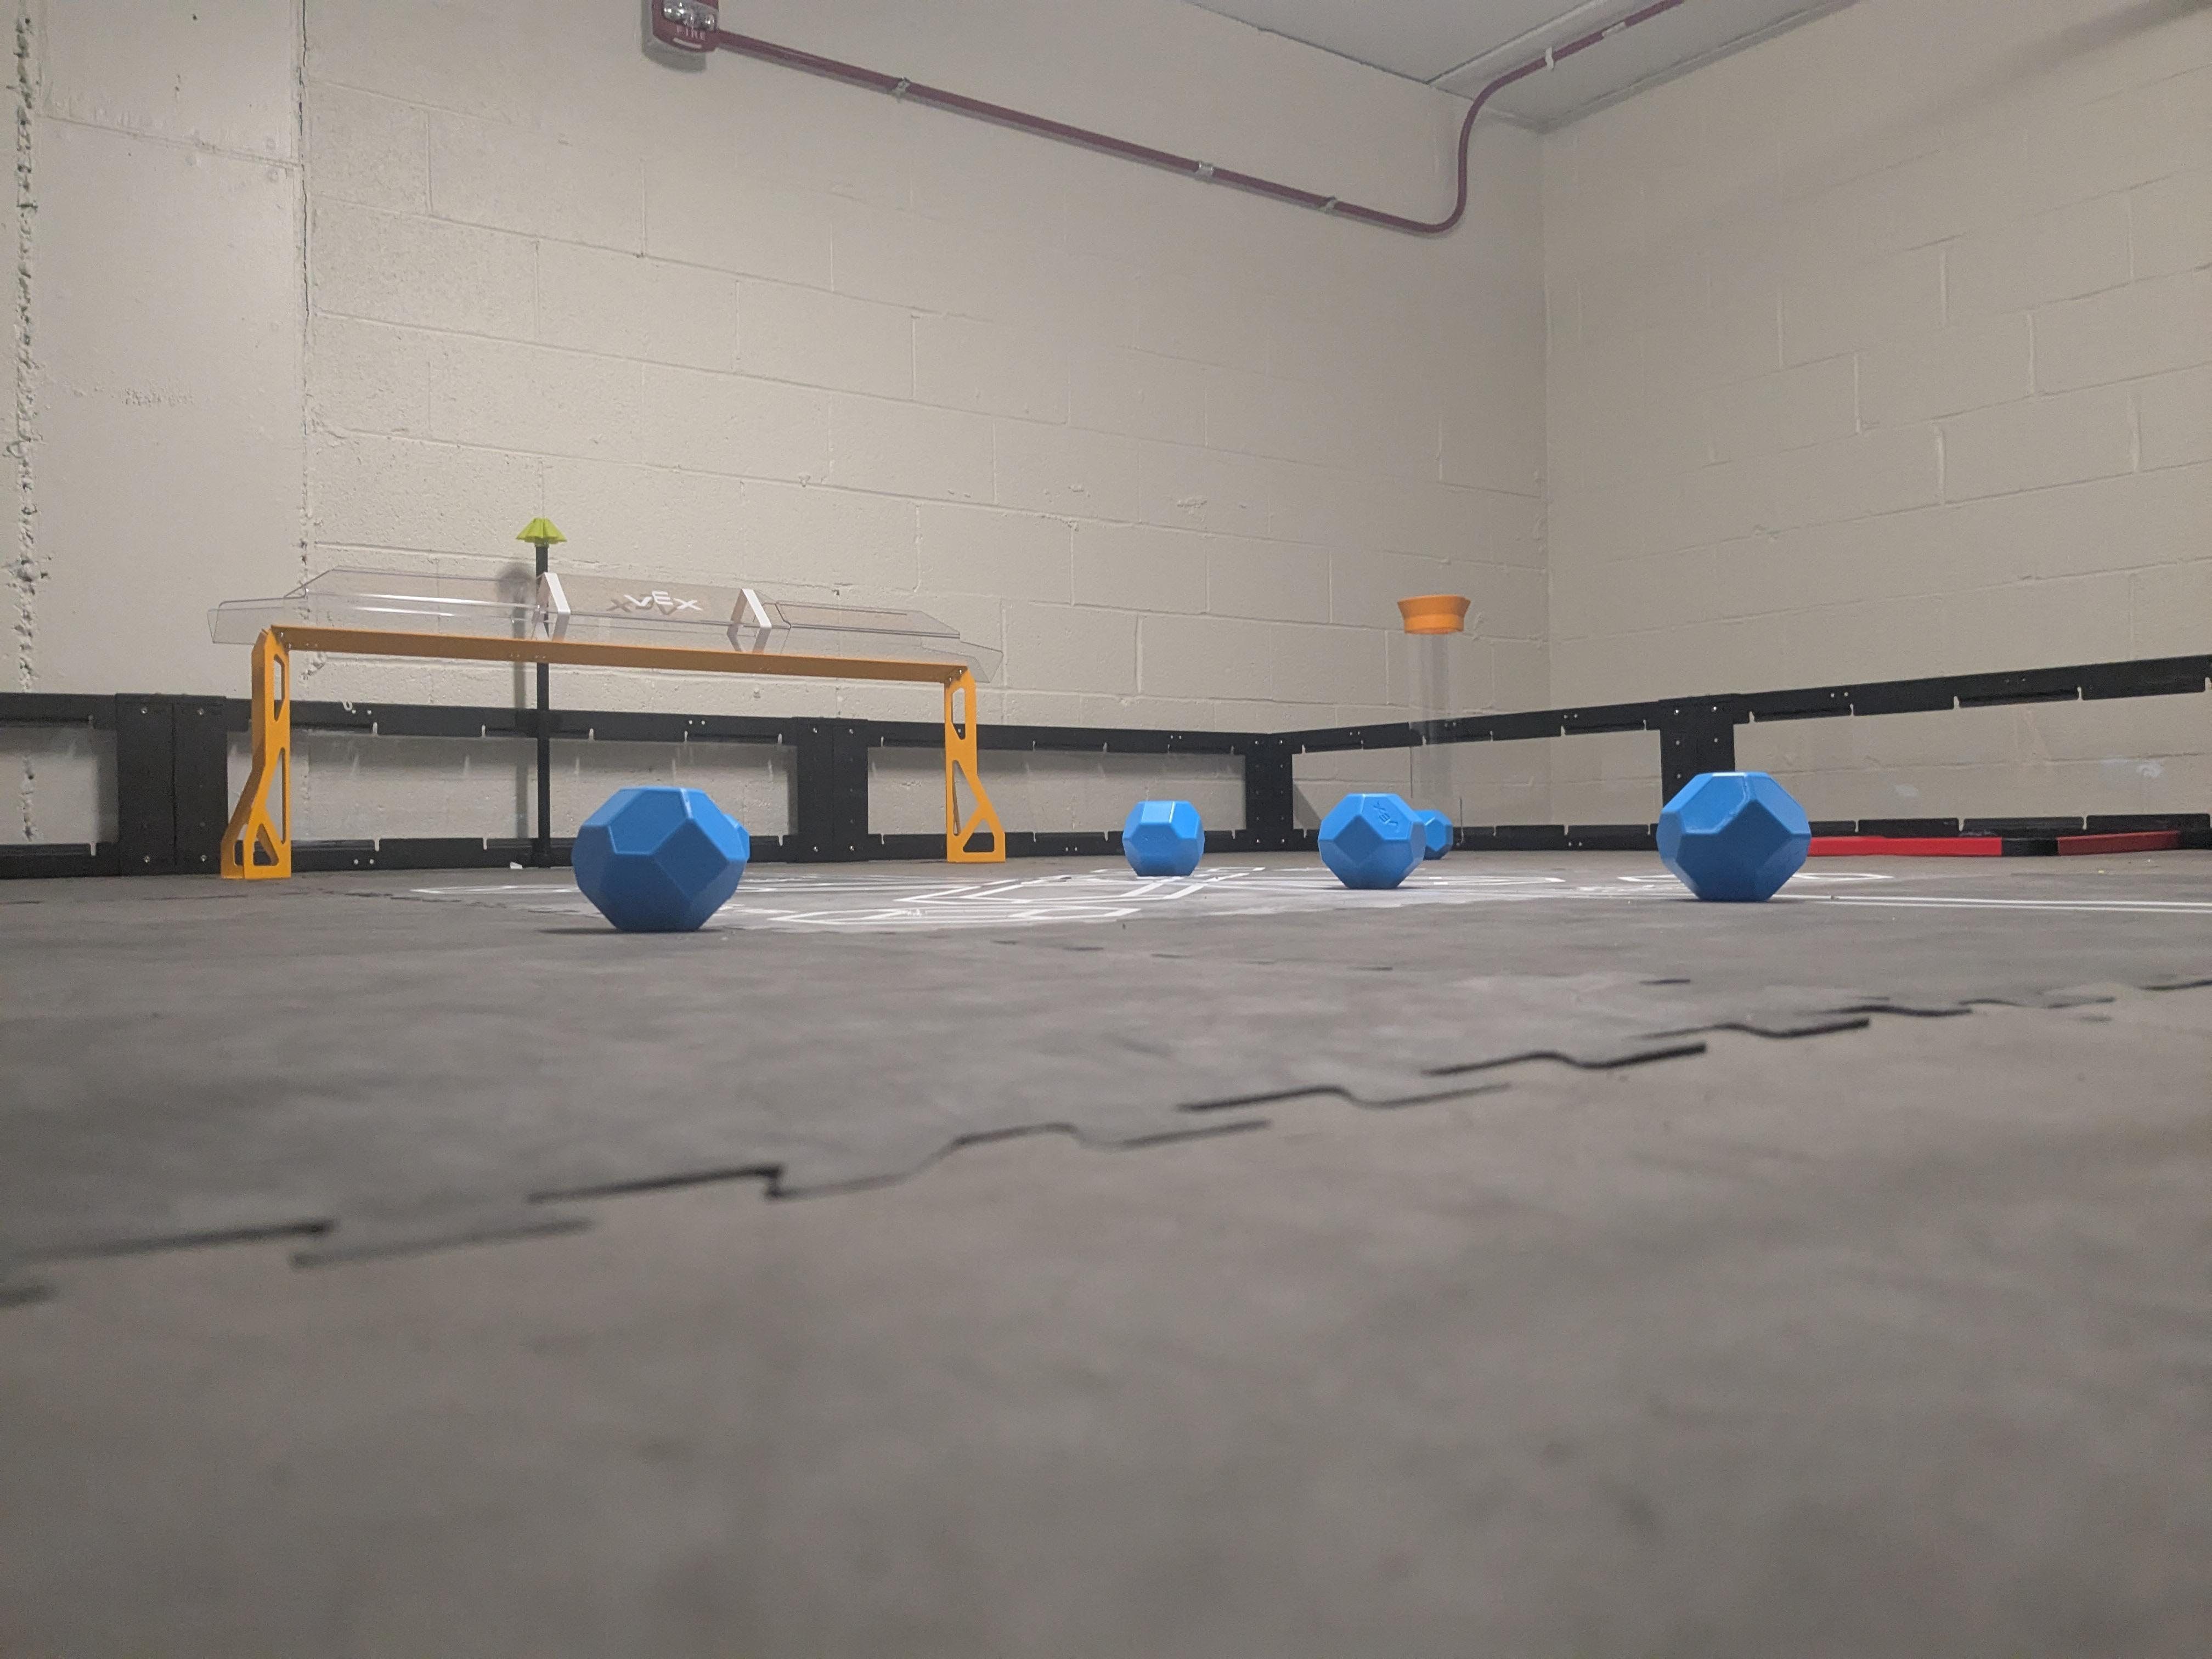Vex-Pieces-BLUE: (573, 788, 751, 931), (1658, 772, 1806, 901), (1320, 793, 1447, 889), (1120, 800, 1198, 877)
